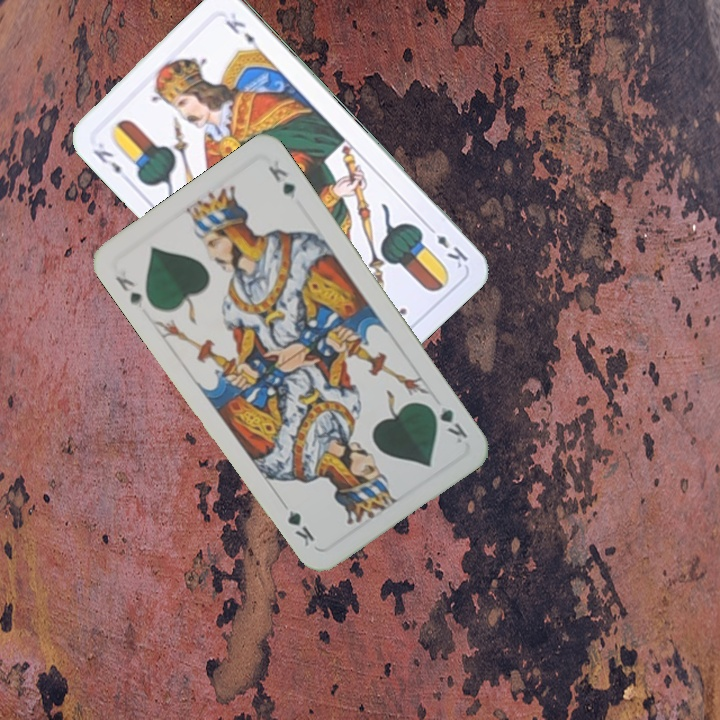EK: (422, 220, 471, 271), (89, 138, 124, 177)
GK: (424, 400, 470, 446), (111, 271, 145, 308)
